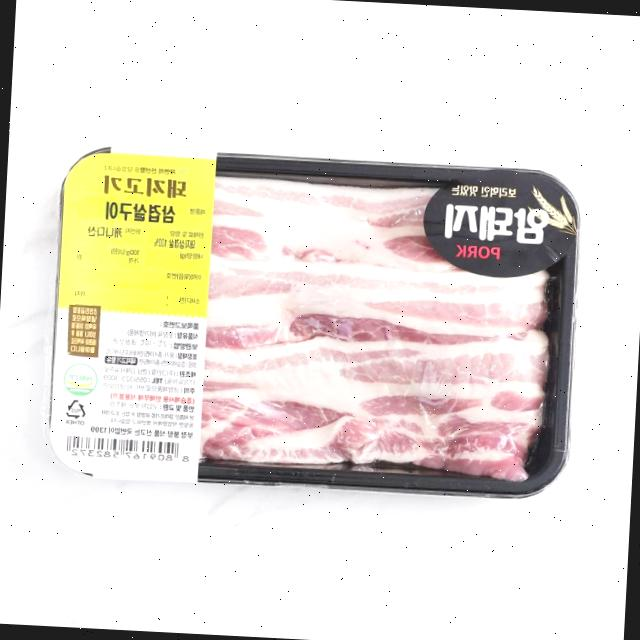meat: (35, 116, 604, 512)
